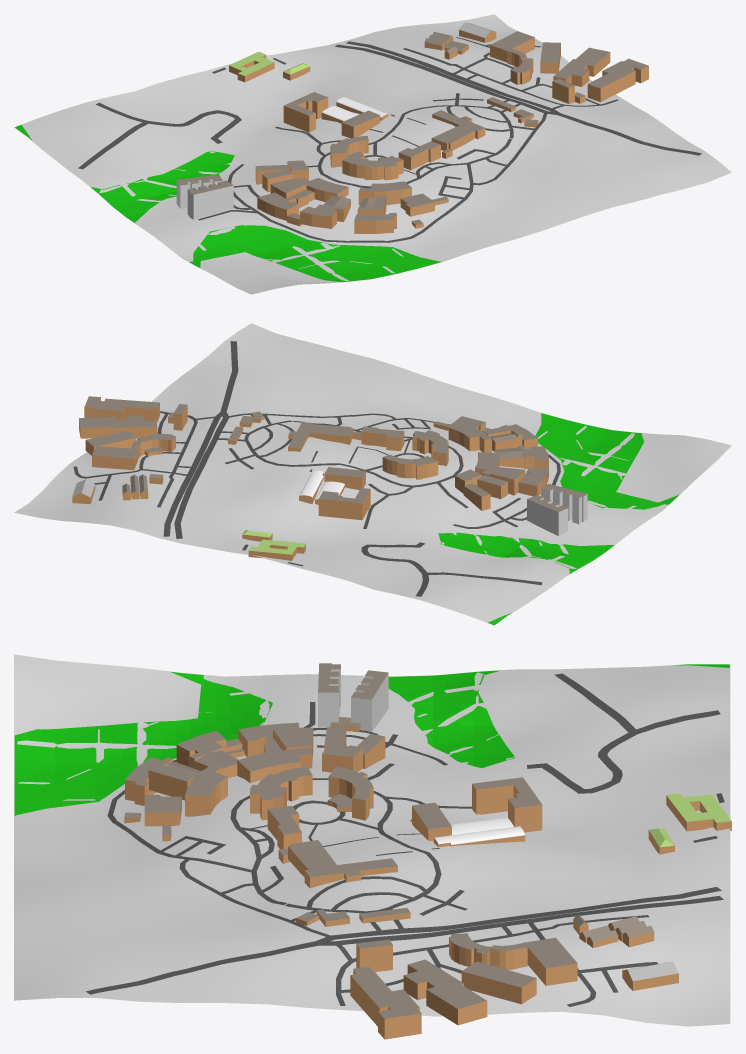
The picture shows the model from 3 angles, top to bottom: view 1: azimuth 30°, elevation 25°; view 2: azimuth 150°, elevation 25°; view 3: azimuth 270°, elevation 25°; orthographic projection. The views are drawn at different scales.
Parts seen in each view (by area): view 1: Terrain, map_2.osm_buildings, map_2.osm_vegetation, map_2.osm_roads_service, map_2.osm_roads_residential; view 2: Terrain, map_2.osm_buildings, map_2.osm_vegetation, map_2.osm_roads_service, map_2.osm_roads_residential; view 3: Terrain, map_2.osm_buildings, map_2.osm_vegetation, map_2.osm_roads_service, map_2.osm_roads_residential.
Part boxes in pixels (x1,y1,x2,y2): Terrain: (14, 14, 731, 294); map_2.osm_buildings: (176, 22, 648, 233); map_2.osm_vegetation: (15, 125, 441, 282); map_2.osm_roads_service: (198, 37, 618, 242); map_2.osm_roads_residential: (78, 41, 701, 169); Terrain: (14, 323, 731, 625); map_2.osm_buildings: (72, 396, 587, 560); map_2.osm_vegetation: (438, 413, 679, 625); map_2.osm_roads_service: (73, 411, 560, 566); map_2.osm_roads_residential: (163, 341, 542, 596); Terrain: (14, 654, 730, 1026); map_2.osm_buildings: (124, 663, 731, 1039); map_2.osm_vegetation: (14, 664, 729, 815); map_2.osm_roads_service: (107, 701, 724, 1006); map_2.osm_roads_residential: (85, 673, 723, 994).
Bounding box in the file's own units: 66491 × 4263 × 52684.
